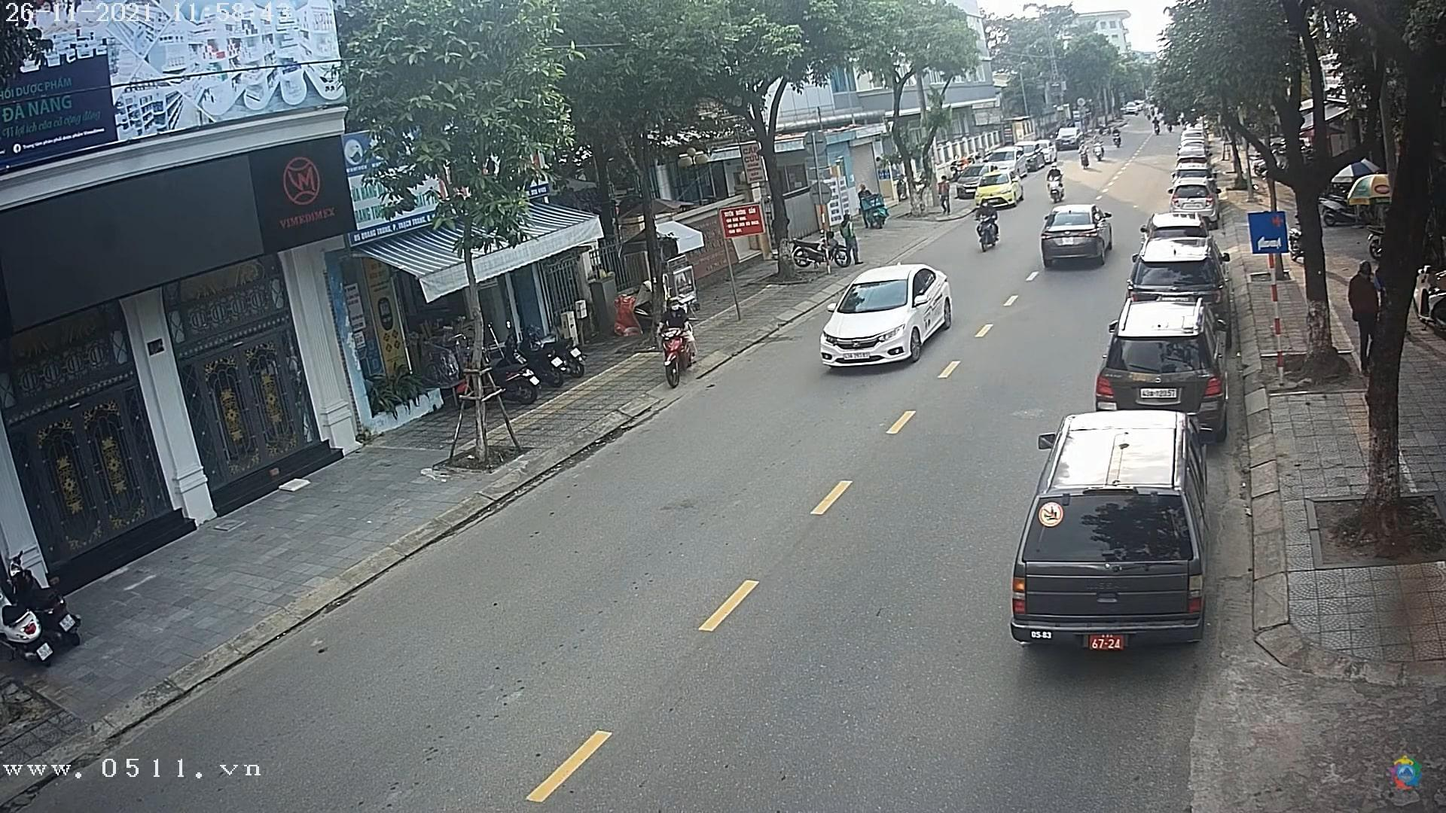car: (1016, 408, 1206, 648), (819, 264, 957, 372), (1095, 320, 1224, 429), (1128, 241, 1225, 302), (1039, 204, 1115, 273), (1058, 126, 1085, 150)
motorbike: (660, 322, 700, 390), (978, 217, 1003, 251)
